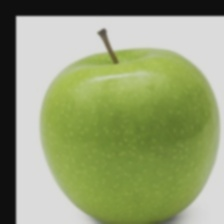apple: (5, 15, 196, 194)
